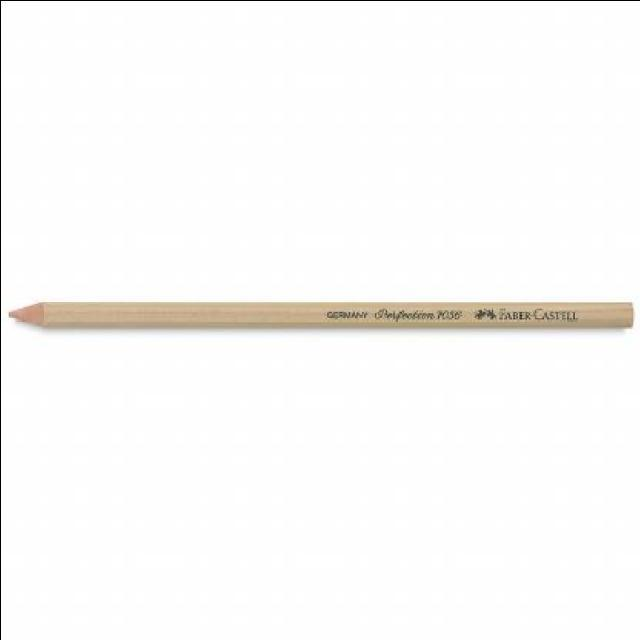Pencil: (0, 291, 68, 334)
